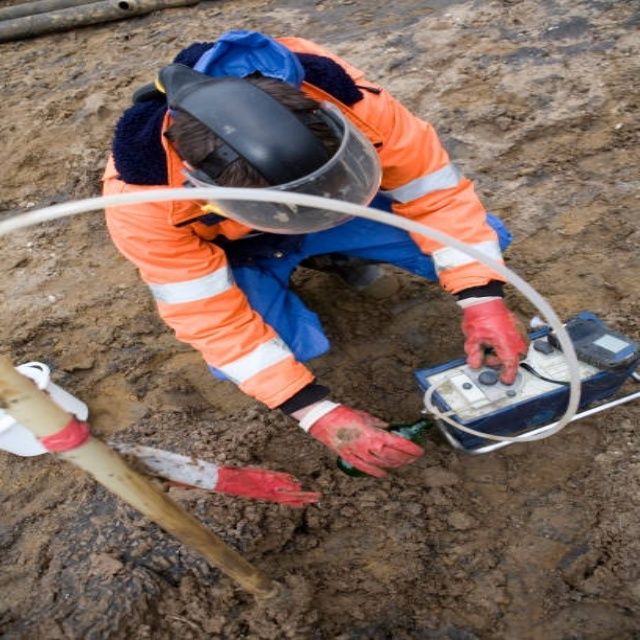Guantes: (290, 396, 427, 481), (456, 293, 530, 383)
